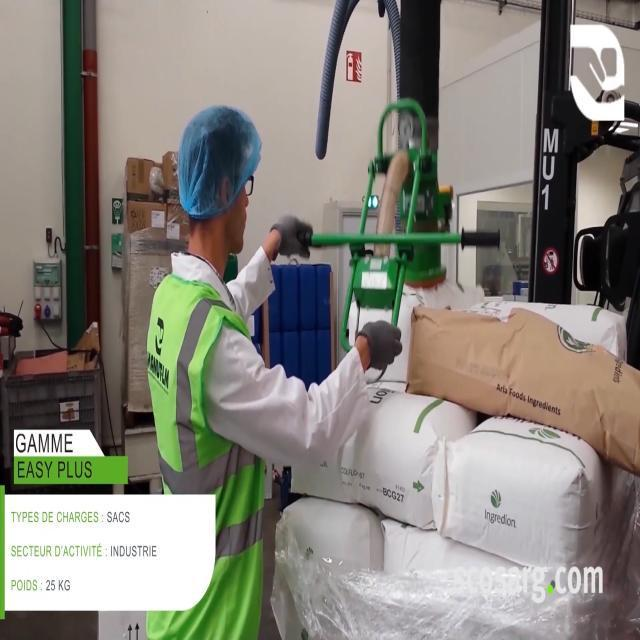gunny_bag: (433, 417, 611, 566), (292, 385, 476, 529)
